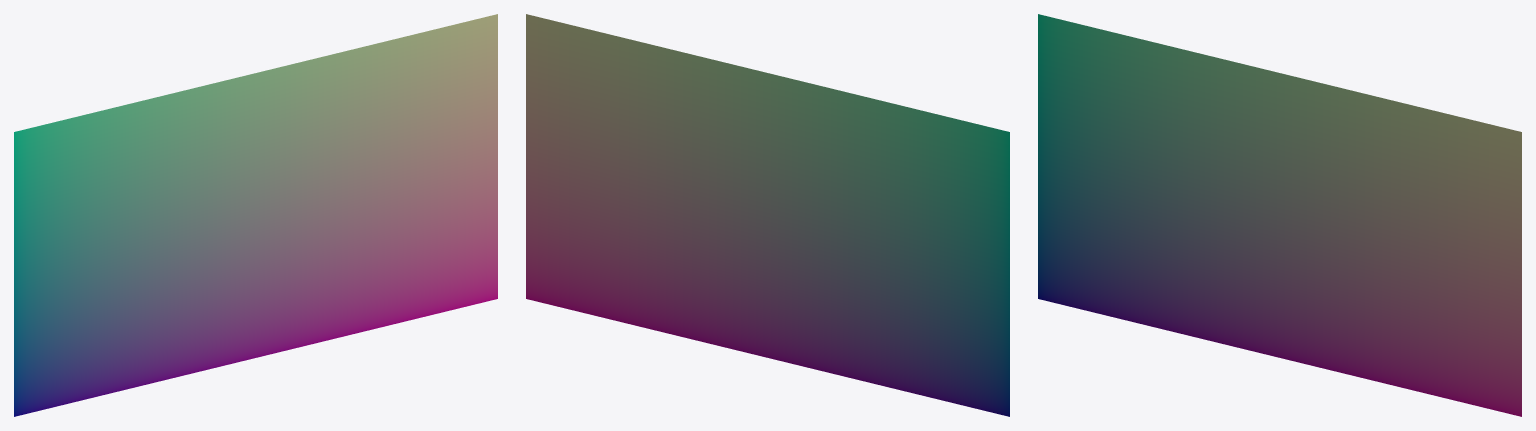
3 renders of one model, left to right at view 1: azimuth 30°, elevation 25°; view 2: azimuth 150°, elevation 25°; view 3: azimuth 330°, elevation 25°, orthographic.
Visible parts, largest first — view 1: cloth_vellum; view 2: cloth_vellum; view 3: cloth_vellum.
Boxes of the visible parts, box(x1,y1,x2,y2) form: cloth_vellum: box(14, 14, 497, 416); cloth_vellum: box(526, 14, 1009, 416); cloth_vellum: box(1038, 14, 1521, 416).
Bounding box in the file's own units: 16 × 9 × 0.
